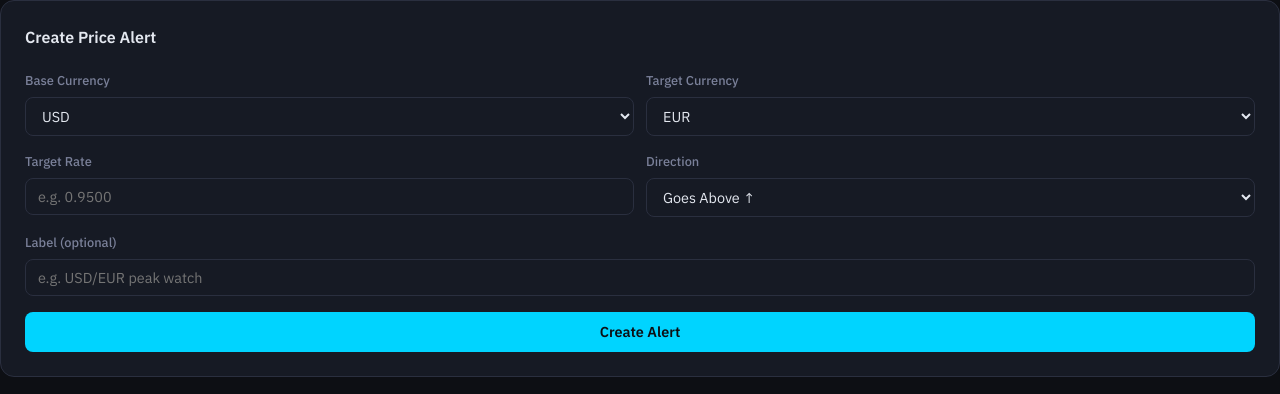
AlertForm › clears rate input after successful submission
The width and height of the screenshot is (1280, 394).
Type "0.95" into the number field labelled "Target Rate". click: point(330, 196)
box: x1=25 y1=178 x2=634 y2=215
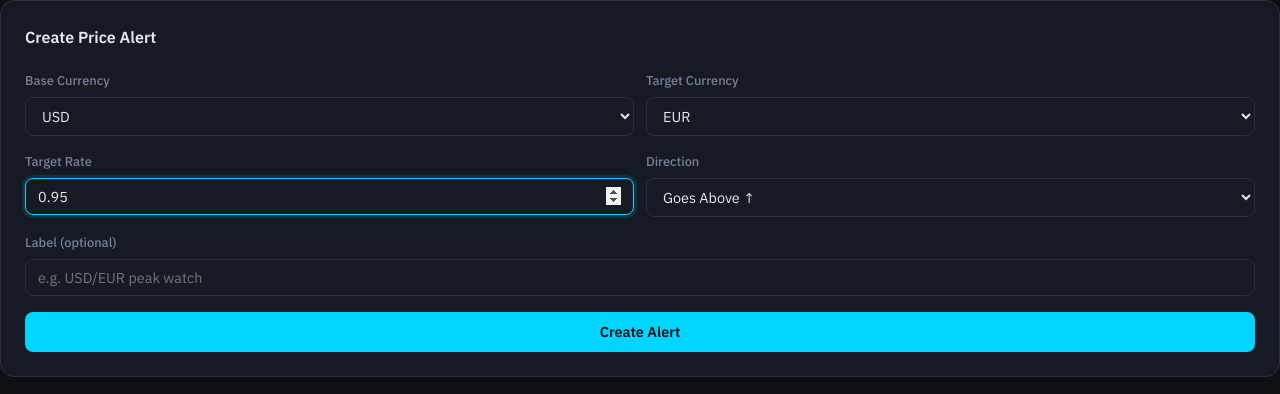
Click the button "Create Alert". click: point(640, 332)
box: x1=25 y1=312 x2=1255 y2=352
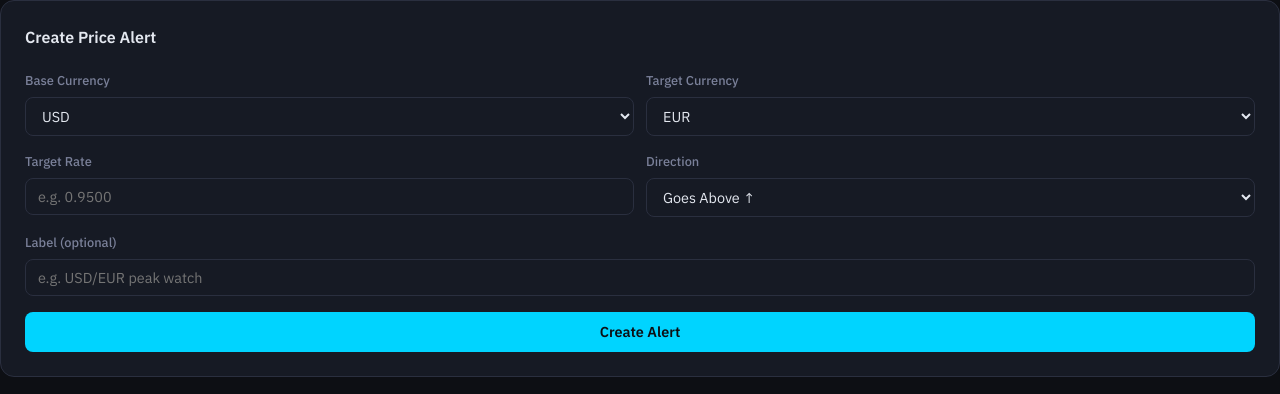
Expected: the number field labelled "Target Rate" is not empty, x1=25 y1=178 x2=634 y2=215
